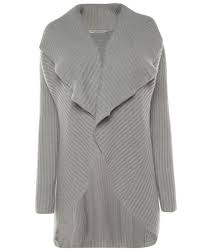C_cardigan sweater: (30, 10, 195, 245)
